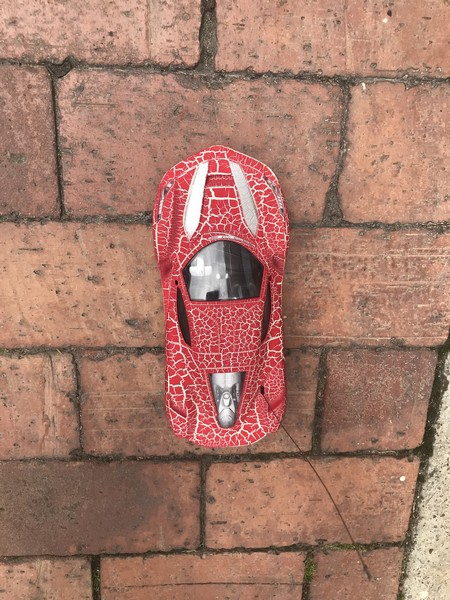RC: (152, 144, 291, 452)
